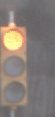Red: (1, 19, 28, 111)
